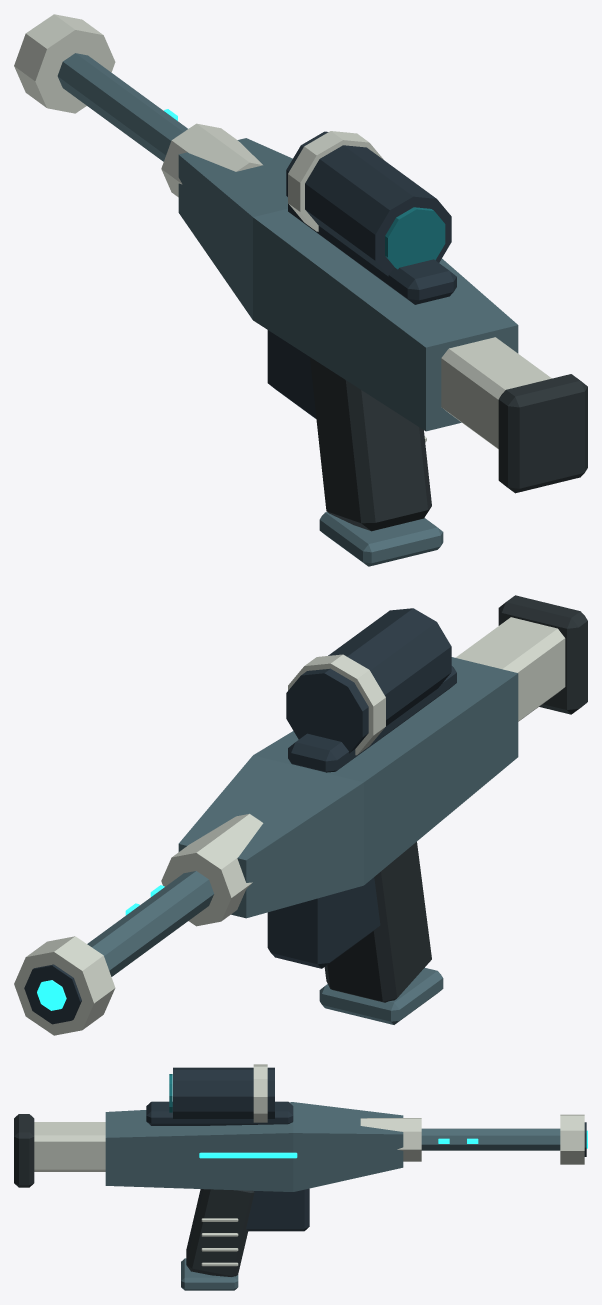
File: 05_parallax_sniper.glb
3 renders of one model, top to bottom at view 1: azimuth 30°, elevation 25°; view 2: azimuth 150°, elevation 25°; view 3: azimuth 270°, elevation 25°, orthographic. The views are drawn at different scales.
Parts seen in each view (by area): view 1: long receiver, grip.003, optic housing, stock heel, shoulder stock, precision barrel, muzzle collar.003, grip heel.003, barrel sleeve, upper rail, optic lens rear, lower cell (+1 smaller); view 2: long receiver, optic housing, grip.003, lower cell, shoulder stock, precision barrel, barrel sleeve, muzzle collar.003, stock heel, grip heel.003, upper rail, optic band (+2 smaller); view 3: long receiver, optic housing, grip.003, shoulder stock, precision barrel, lower cell, upper rail, stock heel, barrel sleeve, muzzle collar.003, grip heel.003, optic band (+1 smaller).
Part boxes in pixels (x1,y1,x2,y2): long receiver: [178, 138, 518, 431]; grip.003: [309, 357, 431, 531]; optic housing: [286, 131, 451, 276]; stock heel: [498, 374, 587, 493]; shoulder stock: [441, 337, 551, 449]; precision barrel: [57, 53, 187, 161]; muzzle collar.003: [14, 14, 115, 113]; grip heel.003: [319, 512, 443, 566]; barrel sleeve: [161, 123, 262, 197]; upper rail: [288, 203, 456, 304]; optic lens rear: [385, 207, 445, 269]; lower cell: [267, 330, 316, 418]; long receiver: [178, 657, 518, 918]; optic housing: [286, 608, 451, 753]; grip.003: [324, 842, 431, 1002]; lower cell: [267, 877, 380, 968]; shoulder stock: [455, 617, 565, 721]; precision barrel: [87, 871, 213, 976]; barrel sleeve: [161, 813, 263, 926]; muzzle collar.003: [14, 936, 115, 1035]; stock heel: [498, 595, 587, 714]; grip heel.003: [319, 968, 443, 1024]; upper rail: [288, 666, 456, 772]; optic band: [288, 654, 385, 755]; long receiver: [105, 1102, 403, 1191]; optic housing: [173, 1067, 274, 1118]; grip.003: [186, 1189, 254, 1276]; shoulder stock: [34, 1122, 105, 1171]; precision barrel: [421, 1128, 560, 1150]; lower cell: [246, 1188, 309, 1231]; upper rail: [146, 1101, 293, 1125]; stock heel: [14, 1114, 34, 1187]; barrel sleeve: [360, 1118, 421, 1161]; muzzle collar.003: [560, 1114, 584, 1164]; grip heel.003: [181, 1258, 238, 1290]; optic band: [253, 1064, 267, 1122].
Bounding box in the file's own units: 0.1855 × 0.5805 × 1.41.
